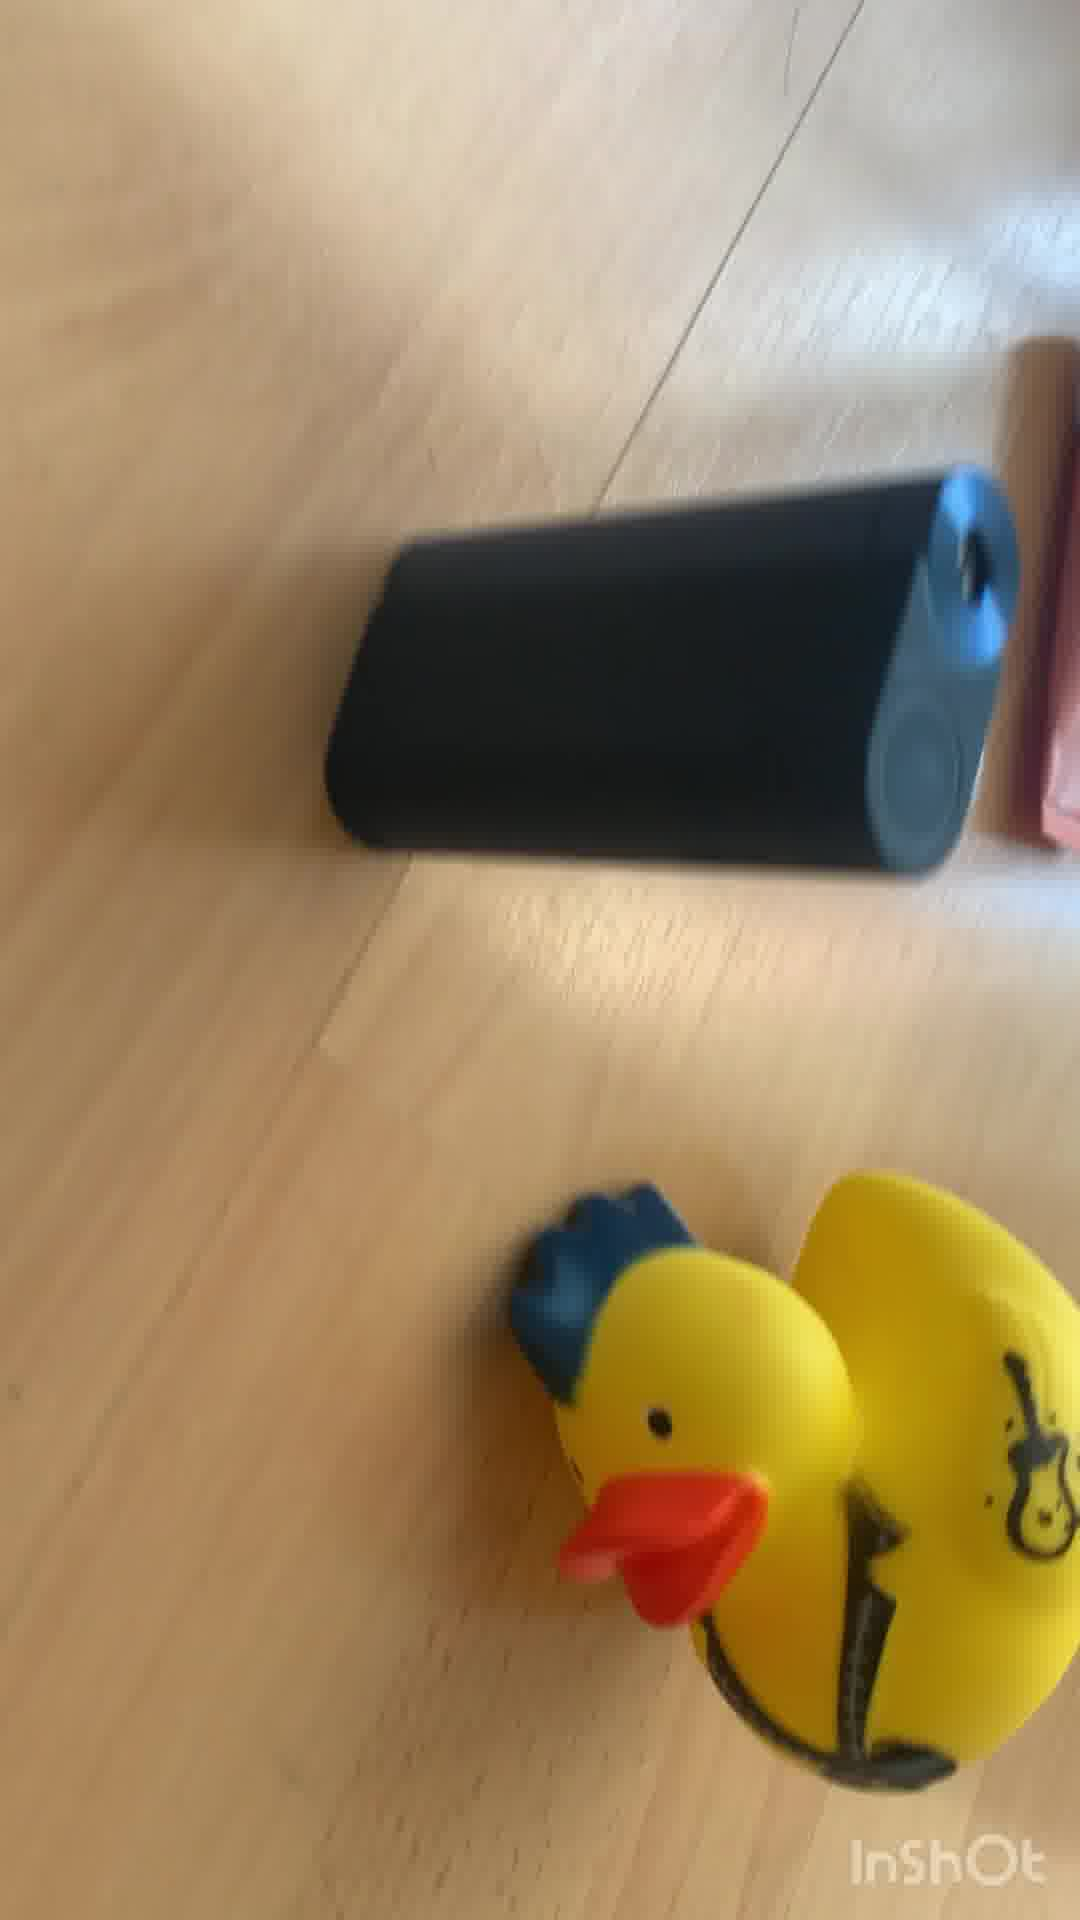duck: (518, 1172, 1080, 1785)
glo: (315, 487, 1007, 890)
lip balm: (1044, 564, 1080, 855)
